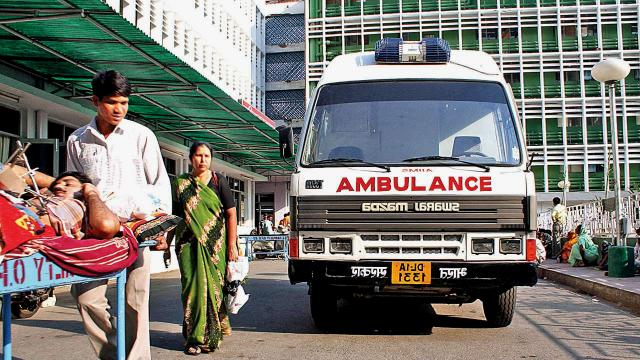ambulance: (278, 33, 546, 325)
